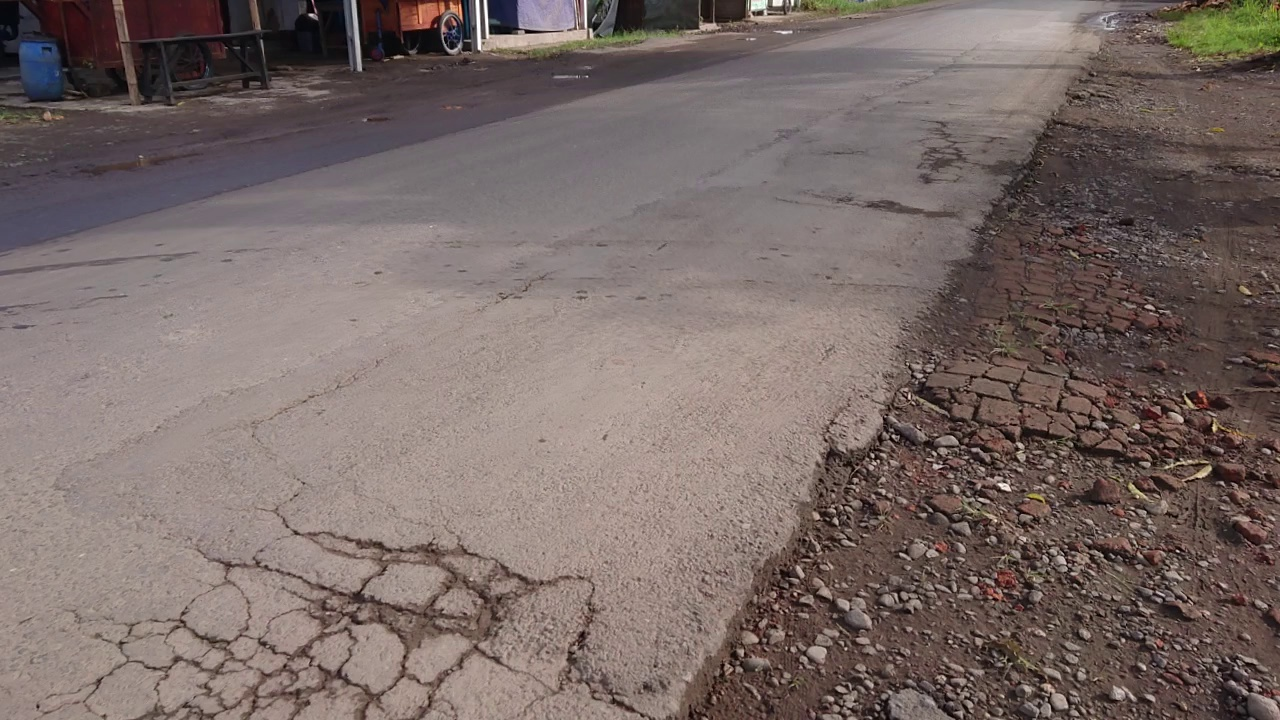Retak: (111, 545, 524, 720), (904, 103, 994, 182)
